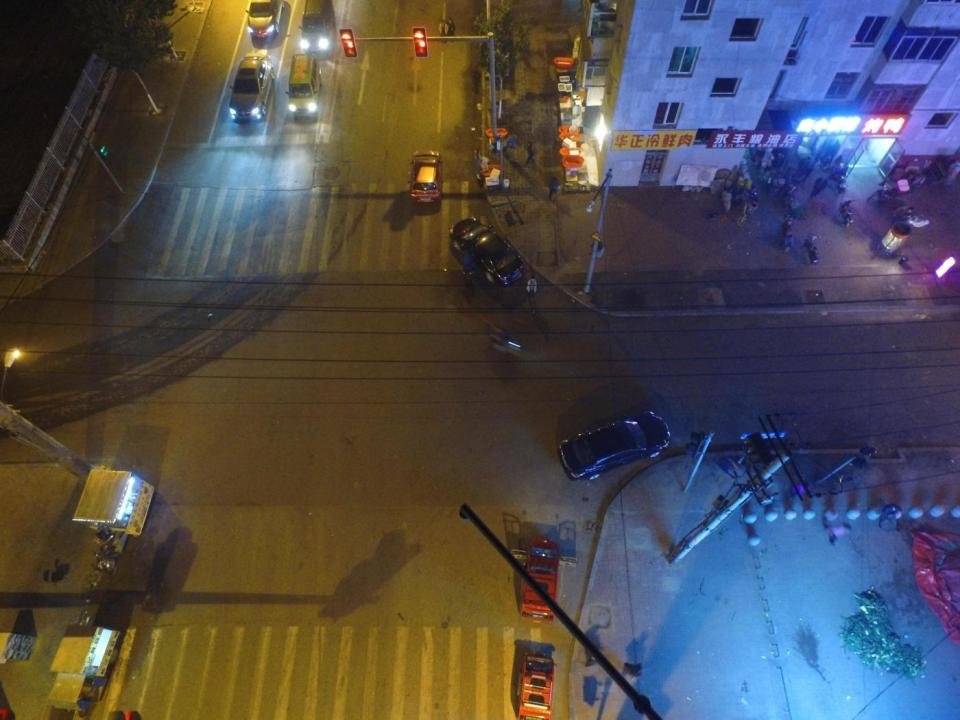car: (558, 410, 670, 482), (449, 217, 525, 285), (229, 54, 274, 121), (409, 150, 444, 202), (244, 1, 285, 38)
van: (284, 54, 321, 121), (300, 0, 334, 53)
